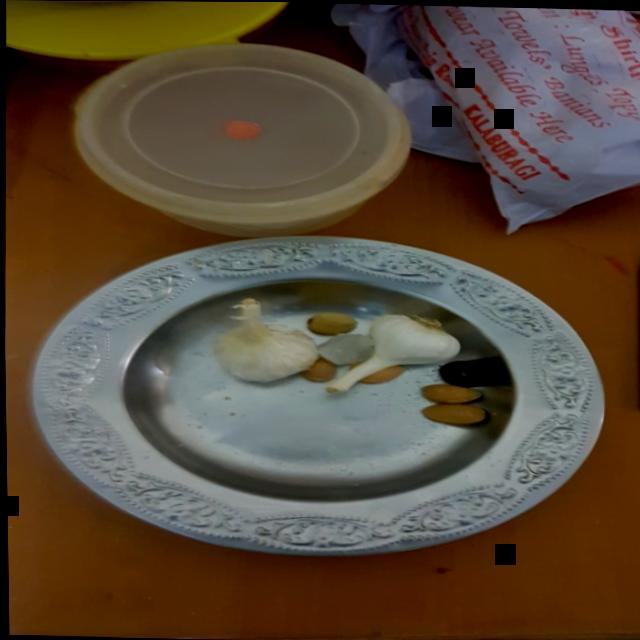garlic: (326, 307, 465, 402), (207, 292, 319, 388)
